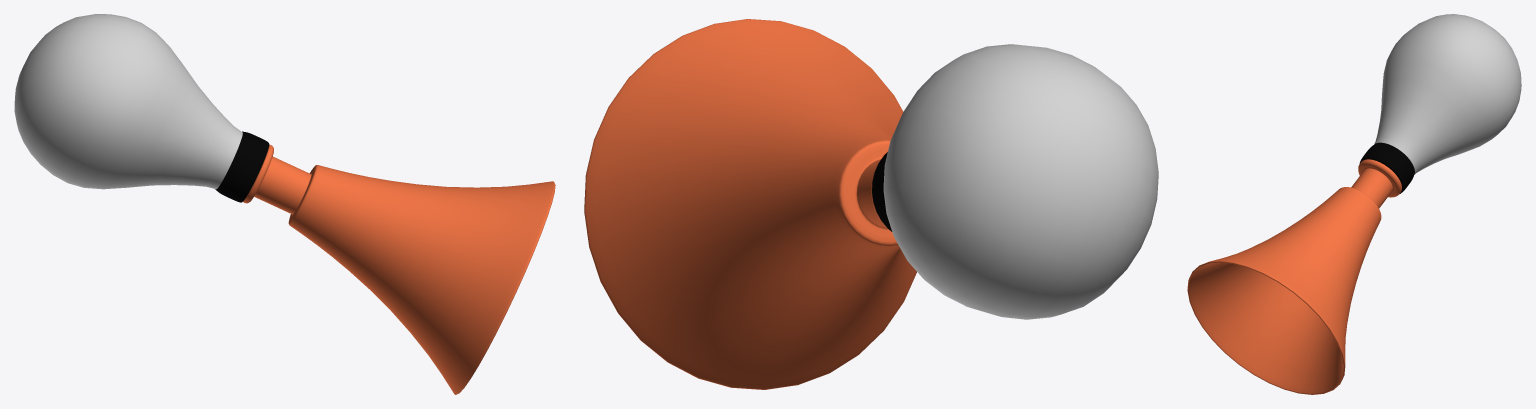
Rendered from Air horn.obj.
3 renders of one model, left to right at view 1: azimuth 30°, elevation 25°; view 2: azimuth 150°, elevation 25°; view 3: azimuth 270°, elevation 25°, orthographic. The views are drawn at different scales.
Visible parts, largest first — view 1: Object_5, Object_3, Object_4; view 2: Object_5, Object_3, Object_4; view 3: Object_5, Object_3, Object_4.
Part boxes in pixels (left/top/right/bottom): Object_5: left=243, top=144, right=555, bottom=394; Object_3: left=14, top=14, right=242, bottom=189; Object_4: left=215, top=131, right=269, bottom=202; Object_5: left=584, top=19, right=916, bottom=389; Object_3: left=883, top=44, right=1158, bottom=319; Object_4: left=872, top=152, right=892, bottom=231; Object_5: left=1187, top=159, right=1401, bottom=394; Object_3: left=1374, top=14, right=1521, bottom=174; Object_4: left=1359, top=142, right=1414, bottom=193.
Bounding box in the file's own units: 12.96 × 9.95 × 11.03.
Materials: 2 (2 with a texture image).
